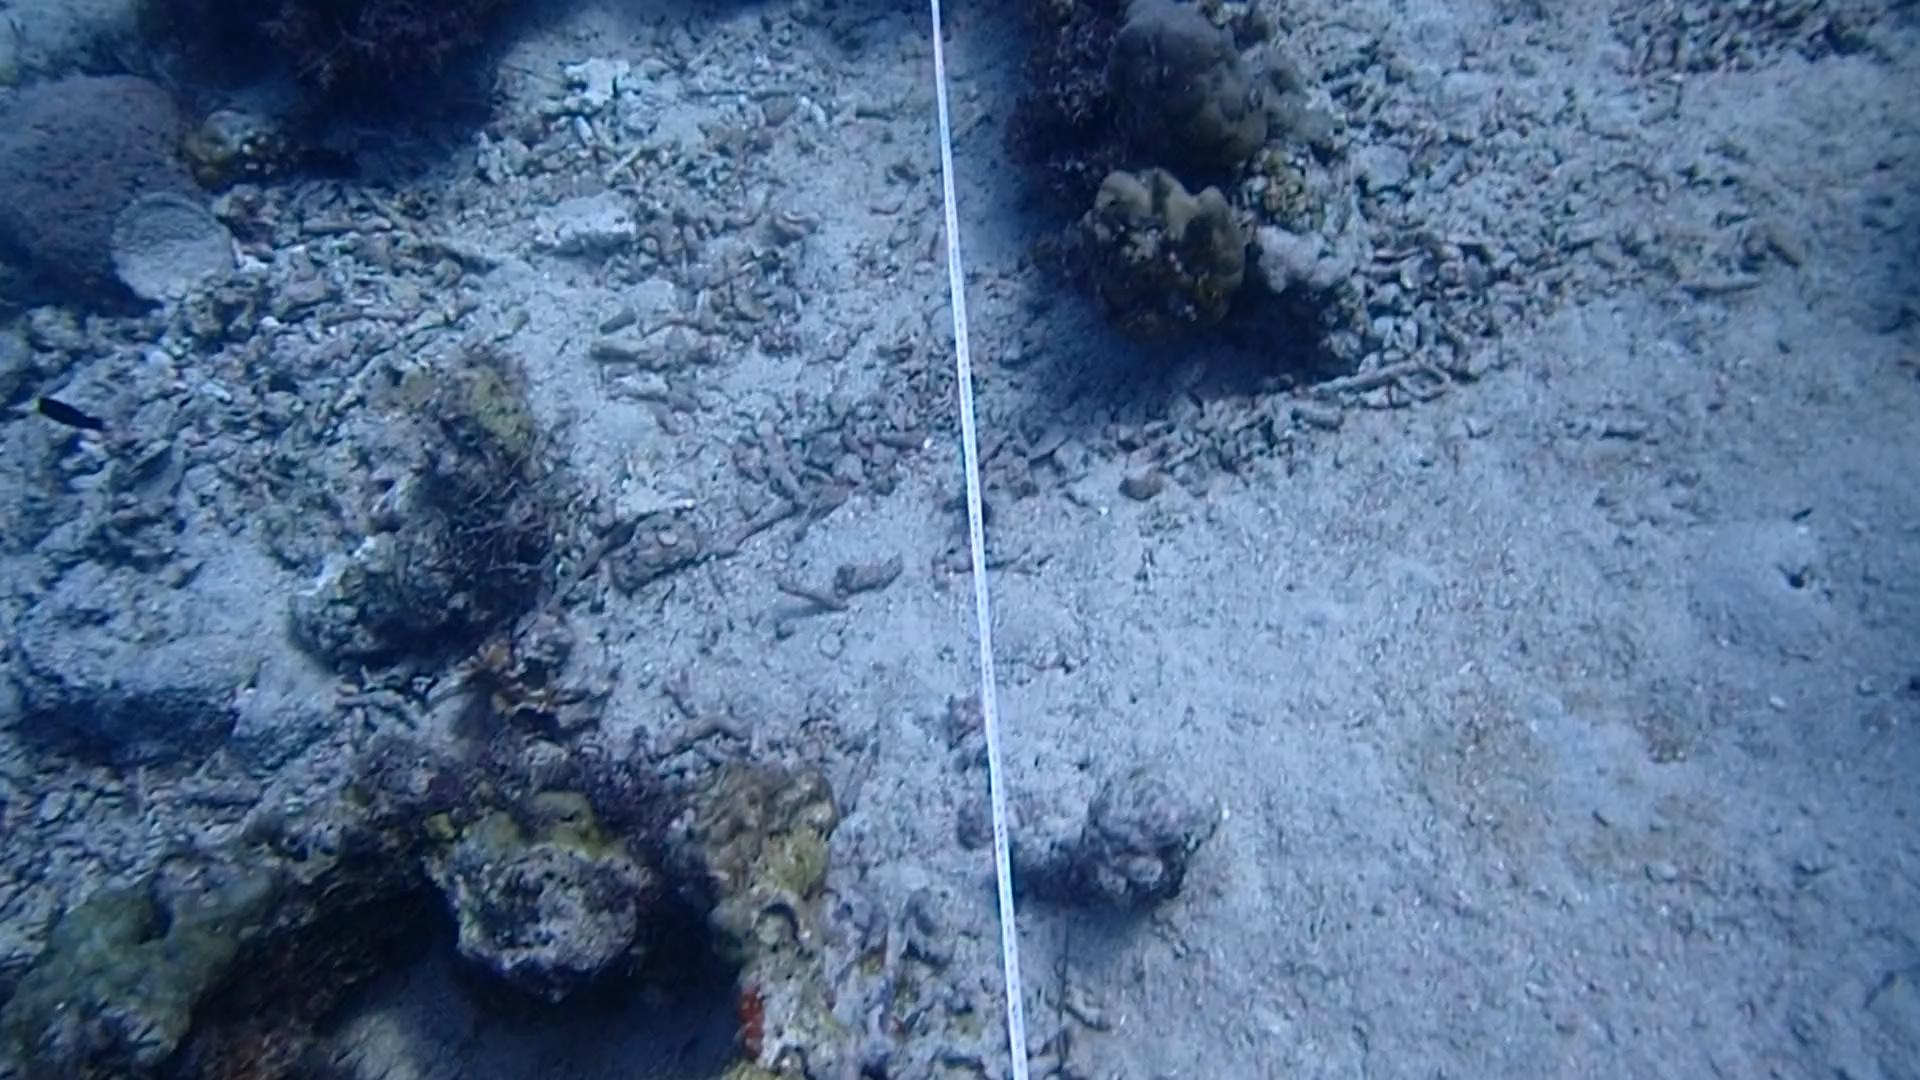Dark Fish: (29, 381, 111, 444), (294, 132, 367, 193)
